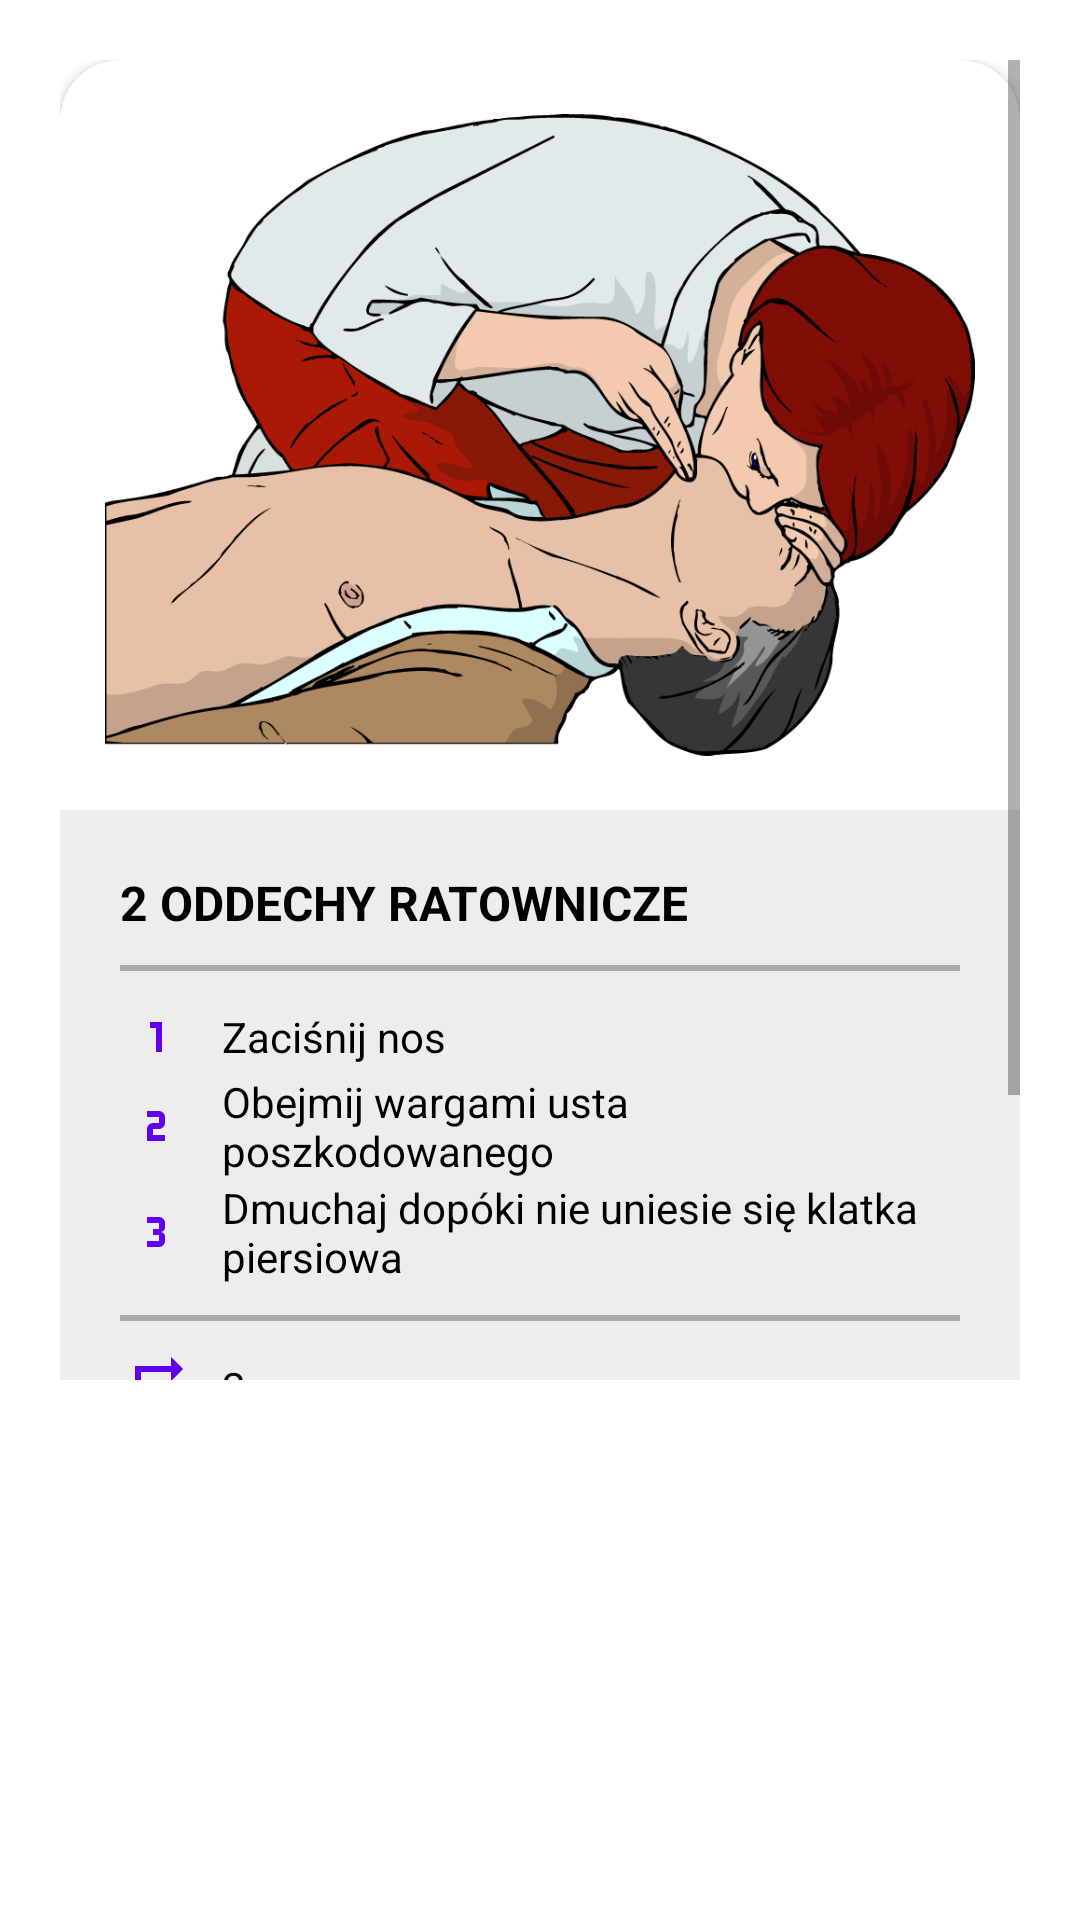

Icons on this 1080 x 1920 Android screen, each with the point to tap as (x=x, y=y):
numeric: (x=156, y=1037), (x=156, y=1126), (x=156, y=1232)
